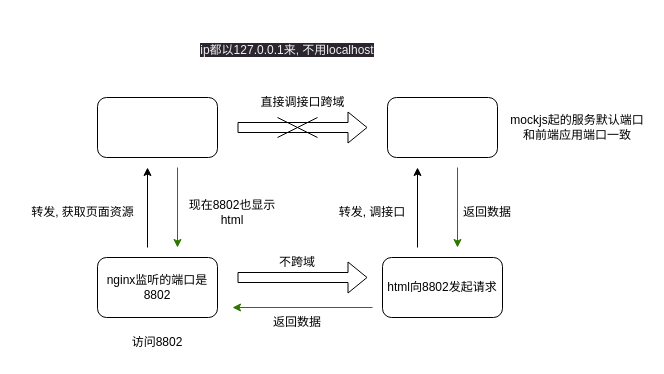
Image size: 664x374. Some labels were removed from this diagram. The centre of each missing label's shape, as x and y in pixels:
"html经vscode起的服务, 端口是5500" goes at (x=157, y=127).
"vite+mockjs起的服务, 端口是5173" goes at (x=442, y=127).
